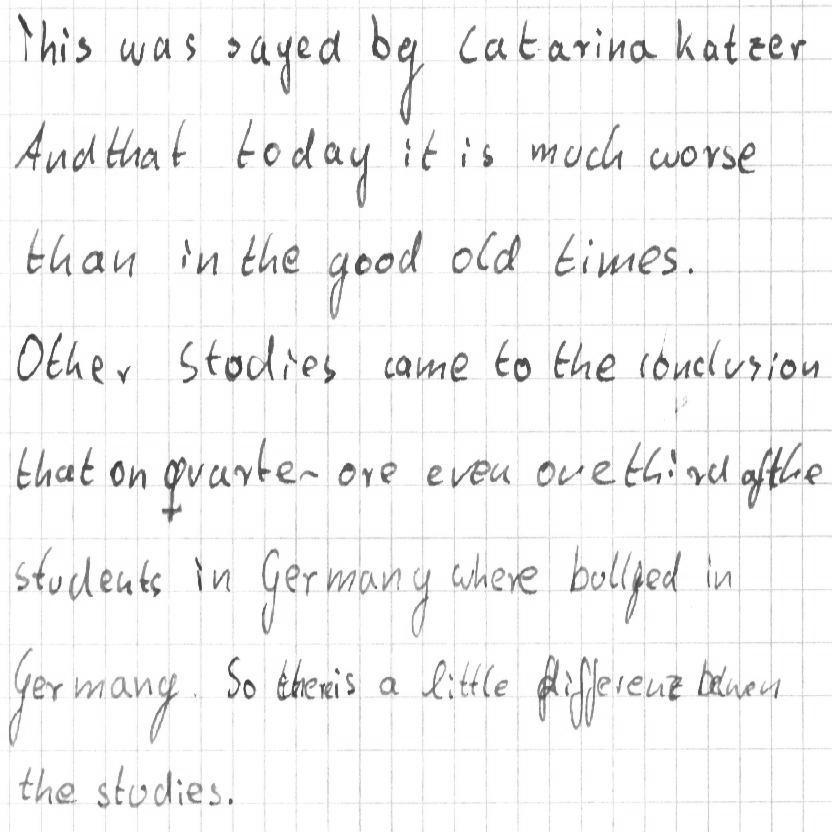Char: (3, 650, 32, 746), (394, 36, 424, 125), (147, 672, 178, 742), (256, 547, 279, 637), (324, 249, 351, 320), (743, 446, 774, 505), (570, 658, 596, 728), (10, 122, 45, 173), (532, 654, 559, 720), (409, 565, 431, 639), (348, 143, 373, 207), (16, 328, 42, 385), (246, 332, 275, 382), (161, 457, 183, 522), (66, 553, 93, 602), (397, 227, 423, 275), (623, 561, 642, 625), (493, 230, 520, 275), (234, 115, 256, 168), (552, 231, 577, 277), (368, 10, 390, 62), (597, 247, 632, 279), (47, 230, 71, 276), (291, 125, 315, 171), (516, 16, 540, 62), (23, 225, 45, 275), (602, 121, 624, 171), (168, 116, 189, 168), (777, 442, 800, 489), (71, 132, 98, 172), (422, 658, 447, 701), (316, 25, 342, 66), (14, 8, 33, 64), (275, 34, 292, 96), (674, 16, 696, 63), (177, 337, 198, 385), (44, 329, 63, 382), (568, 545, 588, 593), (623, 441, 643, 489), (457, 22, 479, 65), (474, 228, 496, 271), (33, 546, 53, 592), (13, 444, 32, 492), (118, 34, 145, 67), (258, 233, 279, 275), (695, 659, 717, 699), (255, 436, 273, 484), (663, 549, 683, 592), (239, 232, 258, 276), (77, 444, 96, 487), (64, 337, 83, 380), (73, 675, 102, 703), (420, 126, 438, 171), (483, 34, 510, 64), (570, 340, 590, 380), (33, 448, 52, 490), (151, 767, 170, 809), (326, 567, 354, 595), (467, 549, 486, 590), (736, 138, 757, 175), (225, 655, 242, 700), (104, 124, 121, 169), (110, 248, 137, 276), (415, 355, 444, 381), (706, 454, 730, 485), (551, 338, 569, 379), (17, 761, 35, 802), (649, 145, 677, 171), (469, 456, 491, 488), (36, 768, 54, 807), (448, 349, 469, 382), (194, 248, 217, 278), (39, 16, 53, 65), (558, 460, 584, 486), (532, 139, 558, 165), (112, 762, 127, 807), (652, 339, 668, 381), (494, 338, 511, 377), (534, 458, 556, 488), (11, 560, 30, 594), (723, 20, 738, 63), (519, 564, 539, 596), (596, 351, 616, 383), (639, 245, 660, 275), (275, 658, 290, 700), (664, 672, 685, 702), (645, 449, 663, 484), (80, 249, 105, 274), (591, 458, 614, 485), (629, 40, 656, 63), (512, 353, 532, 384), (261, 140, 283, 168), (606, 548, 621, 589), (204, 340, 221, 376), (280, 346, 297, 382), (121, 132, 138, 168), (451, 245, 472, 274), (208, 461, 229, 490), (152, 32, 172, 62), (283, 560, 300, 595), (448, 461, 469, 489), (706, 338, 721, 377), (700, 142, 720, 171), (320, 351, 336, 387), (489, 460, 512, 485), (379, 567, 401, 593), (108, 674, 130, 700), (191, 555, 206, 593), (249, 37, 270, 64), (337, 460, 357, 488), (661, 245, 679, 276), (138, 146, 161, 170), (282, 245, 301, 274), (746, 34, 765, 63), (224, 352, 243, 381), (127, 464, 148, 490), (468, 658, 481, 700), (562, 142, 582, 169), (184, 460, 204, 487), (376, 673, 399, 696), (424, 463, 446, 487), (291, 655, 303, 699), (88, 353, 105, 384), (377, 459, 398, 484), (178, 235, 193, 270), (94, 780, 112, 809), (207, 779, 225, 808), (723, 355, 743, 381), (678, 144, 698, 170), (300, 351, 319, 378), (583, 144, 602, 171), (767, 31, 784, 61), (745, 351, 762, 381), (450, 559, 467, 589), (581, 234, 594, 273), (45, 149, 67, 172), (210, 568, 231, 592), (108, 458, 126, 486), (185, 779, 203, 807), (132, 674, 153, 698), (323, 140, 343, 165), (129, 783, 149, 808), (353, 250, 372, 276), (232, 462, 251, 488), (56, 779, 75, 805), (301, 568, 319, 595), (295, 32, 313, 59), (374, 251, 395, 274), (148, 567, 164, 597), (276, 458, 295, 483), (804, 460, 823, 485), (547, 37, 566, 62), (597, 666, 612, 697), (479, 140, 495, 169), (451, 670, 467, 699), (765, 349, 779, 382), (183, 29, 197, 62), (607, 37, 626, 61), (481, 662, 494, 697), (401, 134, 414, 169), (137, 558, 150, 593), (381, 353, 399, 378), (646, 674, 664, 699), (98, 568, 114, 596), (116, 570, 133, 596), (684, 463, 704, 485), (342, 668, 357, 697), (358, 568, 376, 592), (720, 143, 736, 170), (458, 134, 471, 167), (74, 36, 91, 61), (394, 352, 411, 377), (55, 462, 75, 483), (114, 364, 133, 386), (672, 358, 691, 380), (45, 679, 64, 701), (713, 568, 732, 590), (702, 38, 719, 62), (801, 359, 821, 379), (789, 38, 807, 60), (172, 774, 184, 807), (636, 352, 650, 380), (490, 567, 507, 590), (627, 674, 644, 697), (60, 24, 70, 63), (591, 25, 602, 60), (226, 36, 242, 60), (763, 677, 781, 698), (589, 566, 604, 591), (667, 449, 678, 483), (298, 467, 321, 483), (242, 677, 258, 700), (32, 674, 46, 700), (646, 567, 661, 591), (359, 464, 374, 488), (779, 359, 796, 380), (571, 38, 588, 59), (47, 574, 63, 595), (494, 679, 510, 699), (304, 676, 317, 700), (614, 673, 627, 696), (563, 668, 573, 697), (723, 681, 740, 698), (742, 680, 758, 698), (316, 680, 331, 699), (693, 357, 706, 378), (333, 666, 340, 701), (683, 262, 698, 278), (705, 554, 712, 588)
